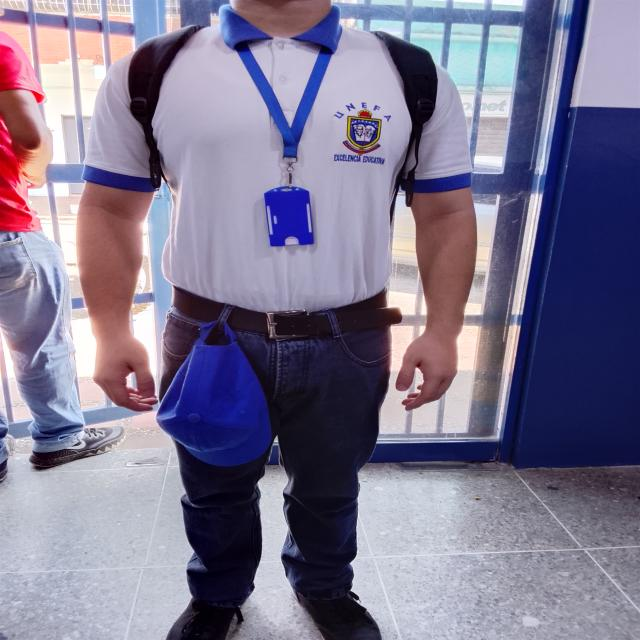carnet: (264, 186, 314, 246)
pantalon_oscuro: (159, 306, 391, 606)
uniforme_superior: (82, 2, 473, 313)
